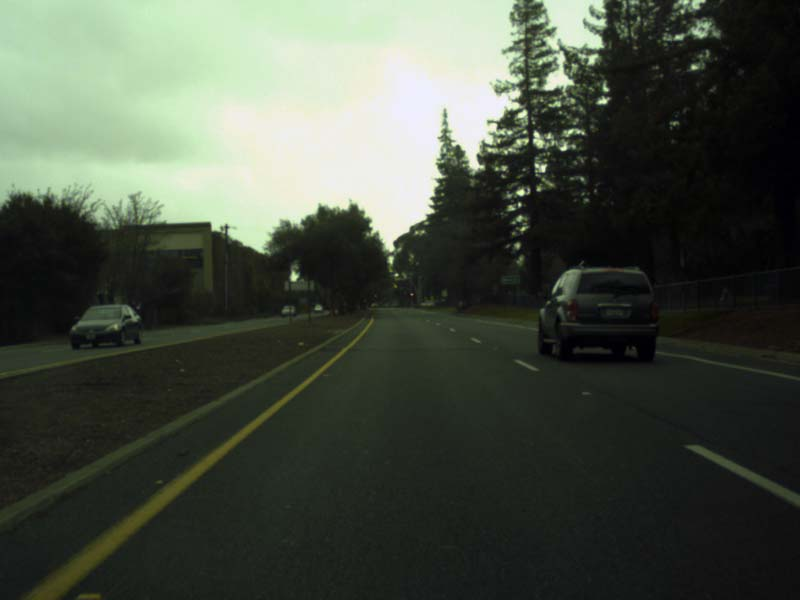Red: (373, 290, 377, 299), (394, 281, 398, 290), (410, 291, 414, 298)
